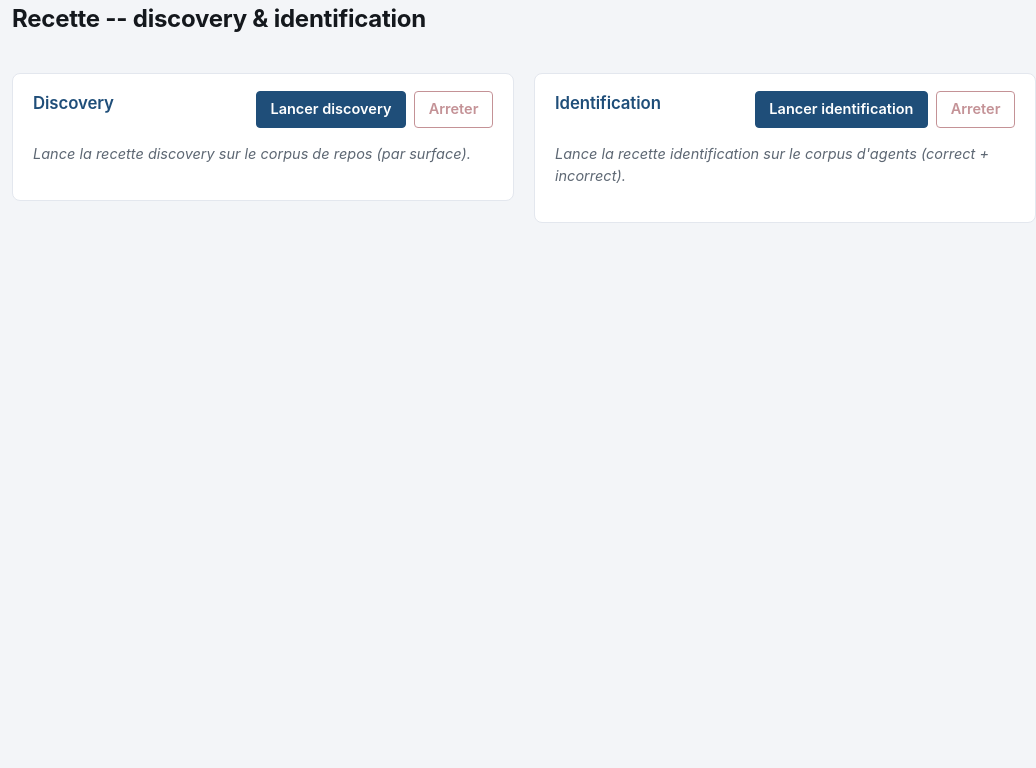
Scenario: RecettePage › streams the captured identification frames into agent rows and the summary
The width and height of the screenshot is (1036, 768).
Click the button "Lancer identification": (841, 109) [755,91,928,128]
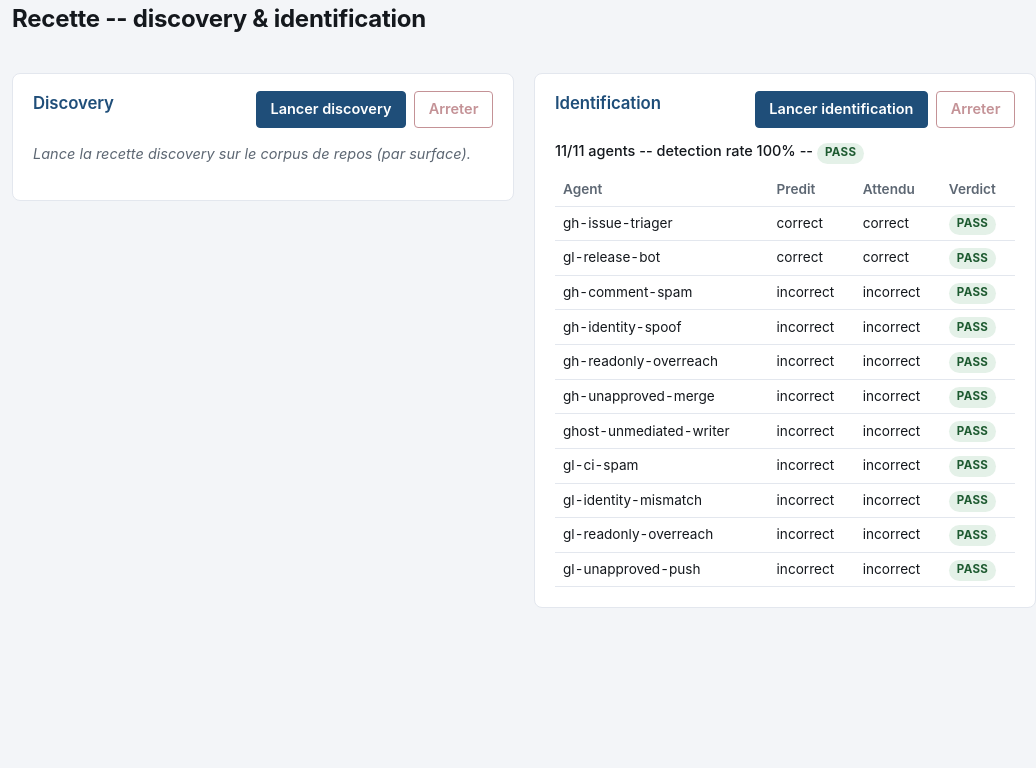
Expected: the text "gh-issue-triager" is shown, [555,206,769,241]
Expected: the text "11/11 agents -- detection rate 100% -- PASS" is shown, [555,142,864,164]
Expected: the number of rows is 12
